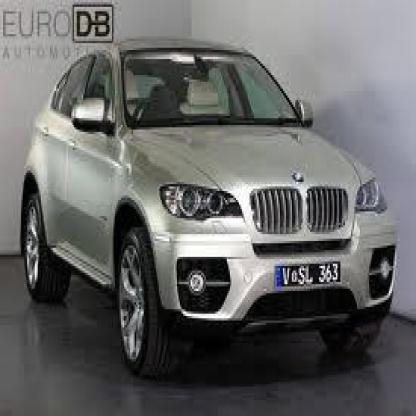Vehicle: (20, 38, 399, 372)
